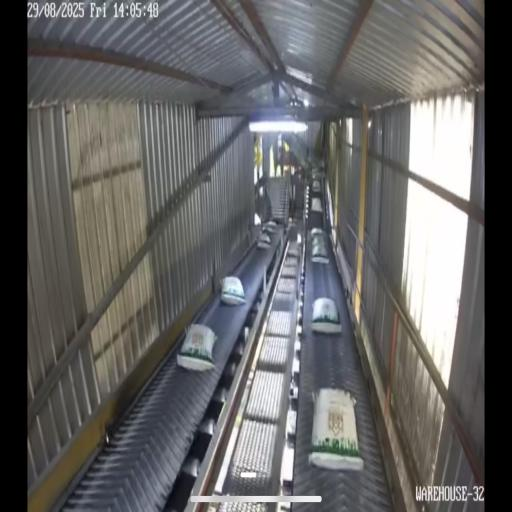c-belt-sack-count: (310, 388, 363, 471), (178, 325, 216, 371)
